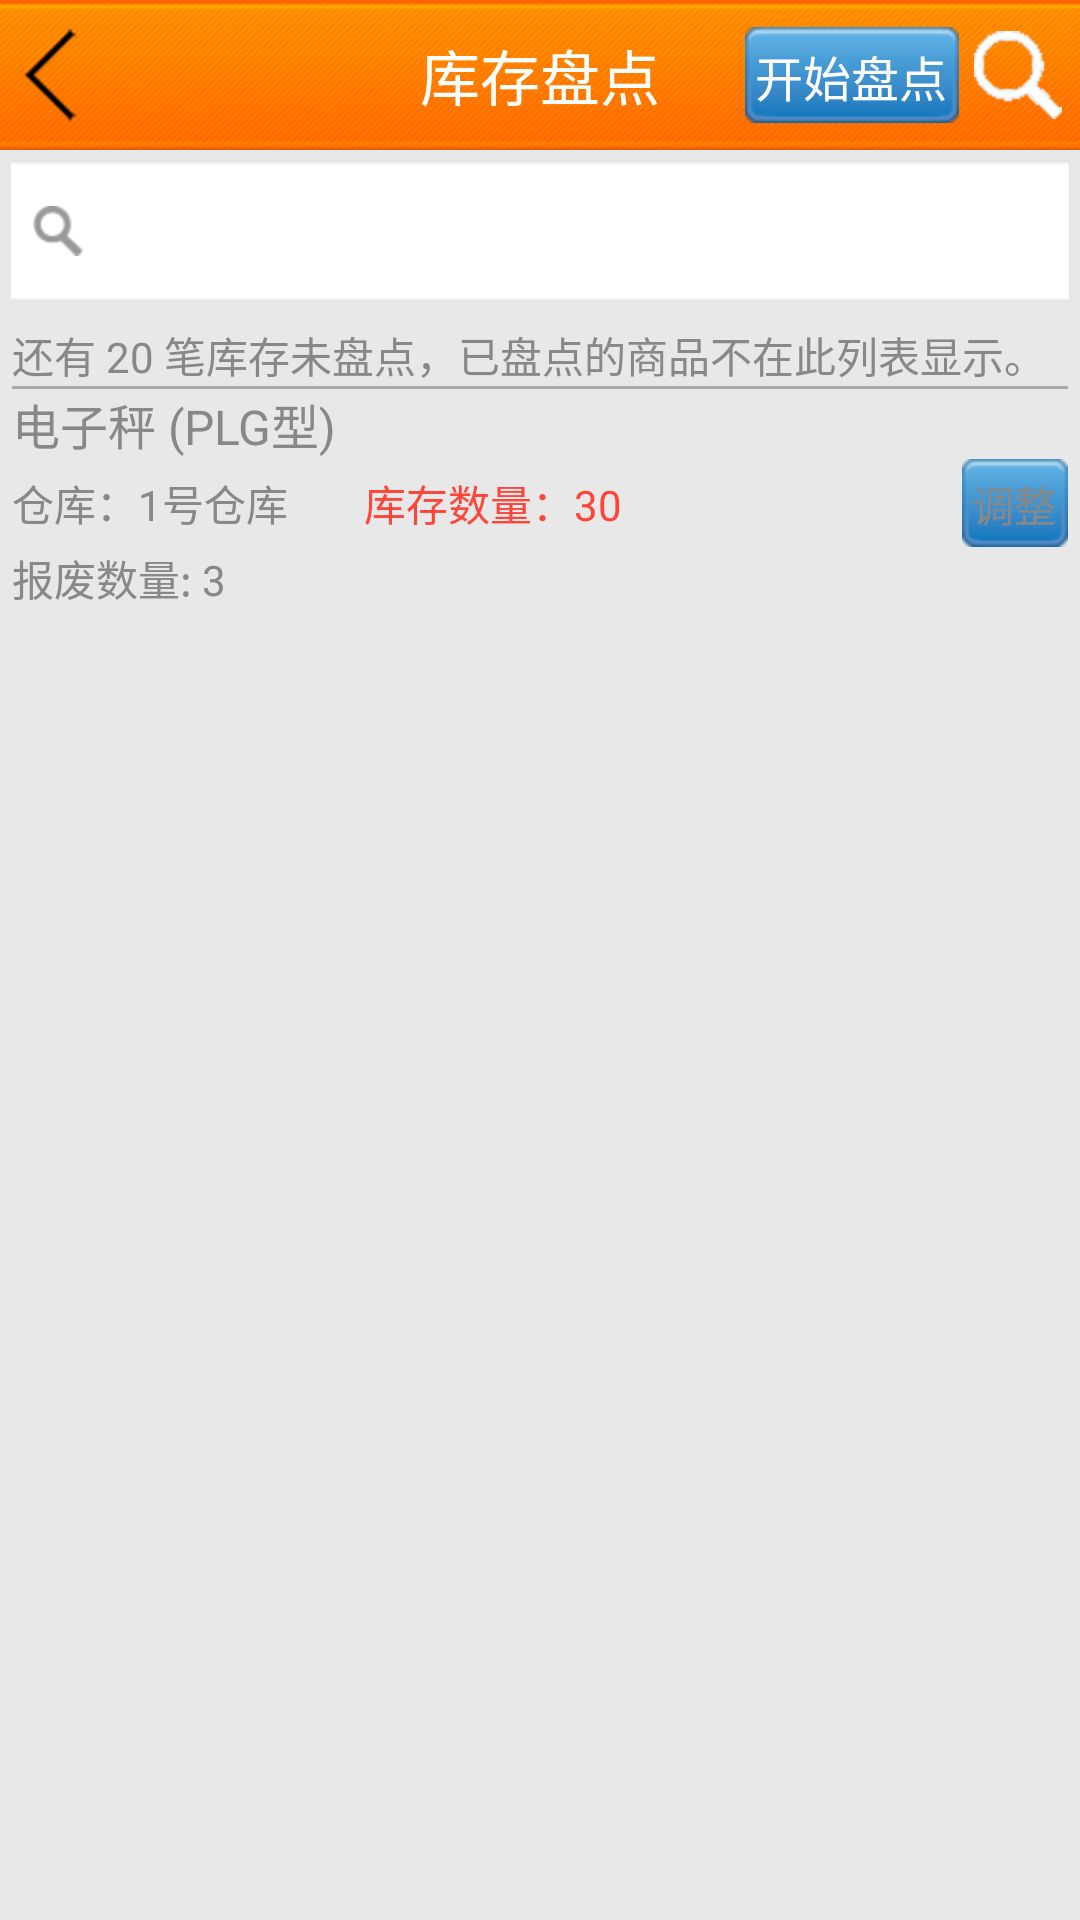

Icon click points for this 1080x1920 phone screenshot, format point (x, y):
back: point (50, 77)
search: point (1018, 75), point (58, 231)
